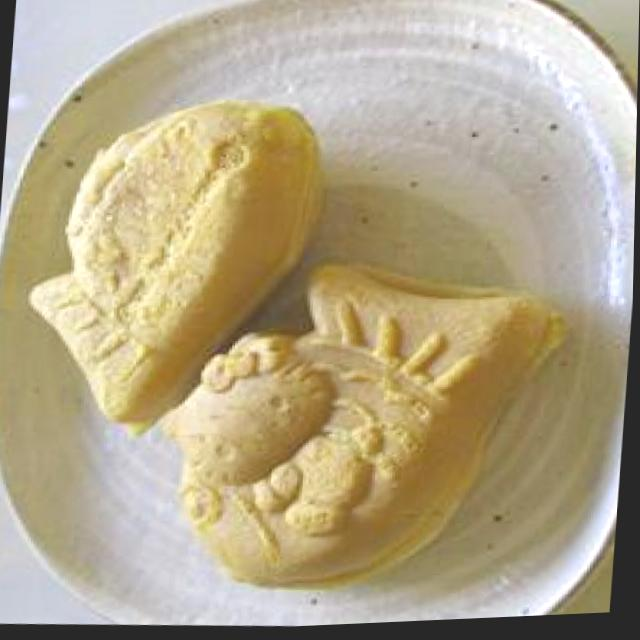熟制海鲜: (0, 62, 592, 625)
